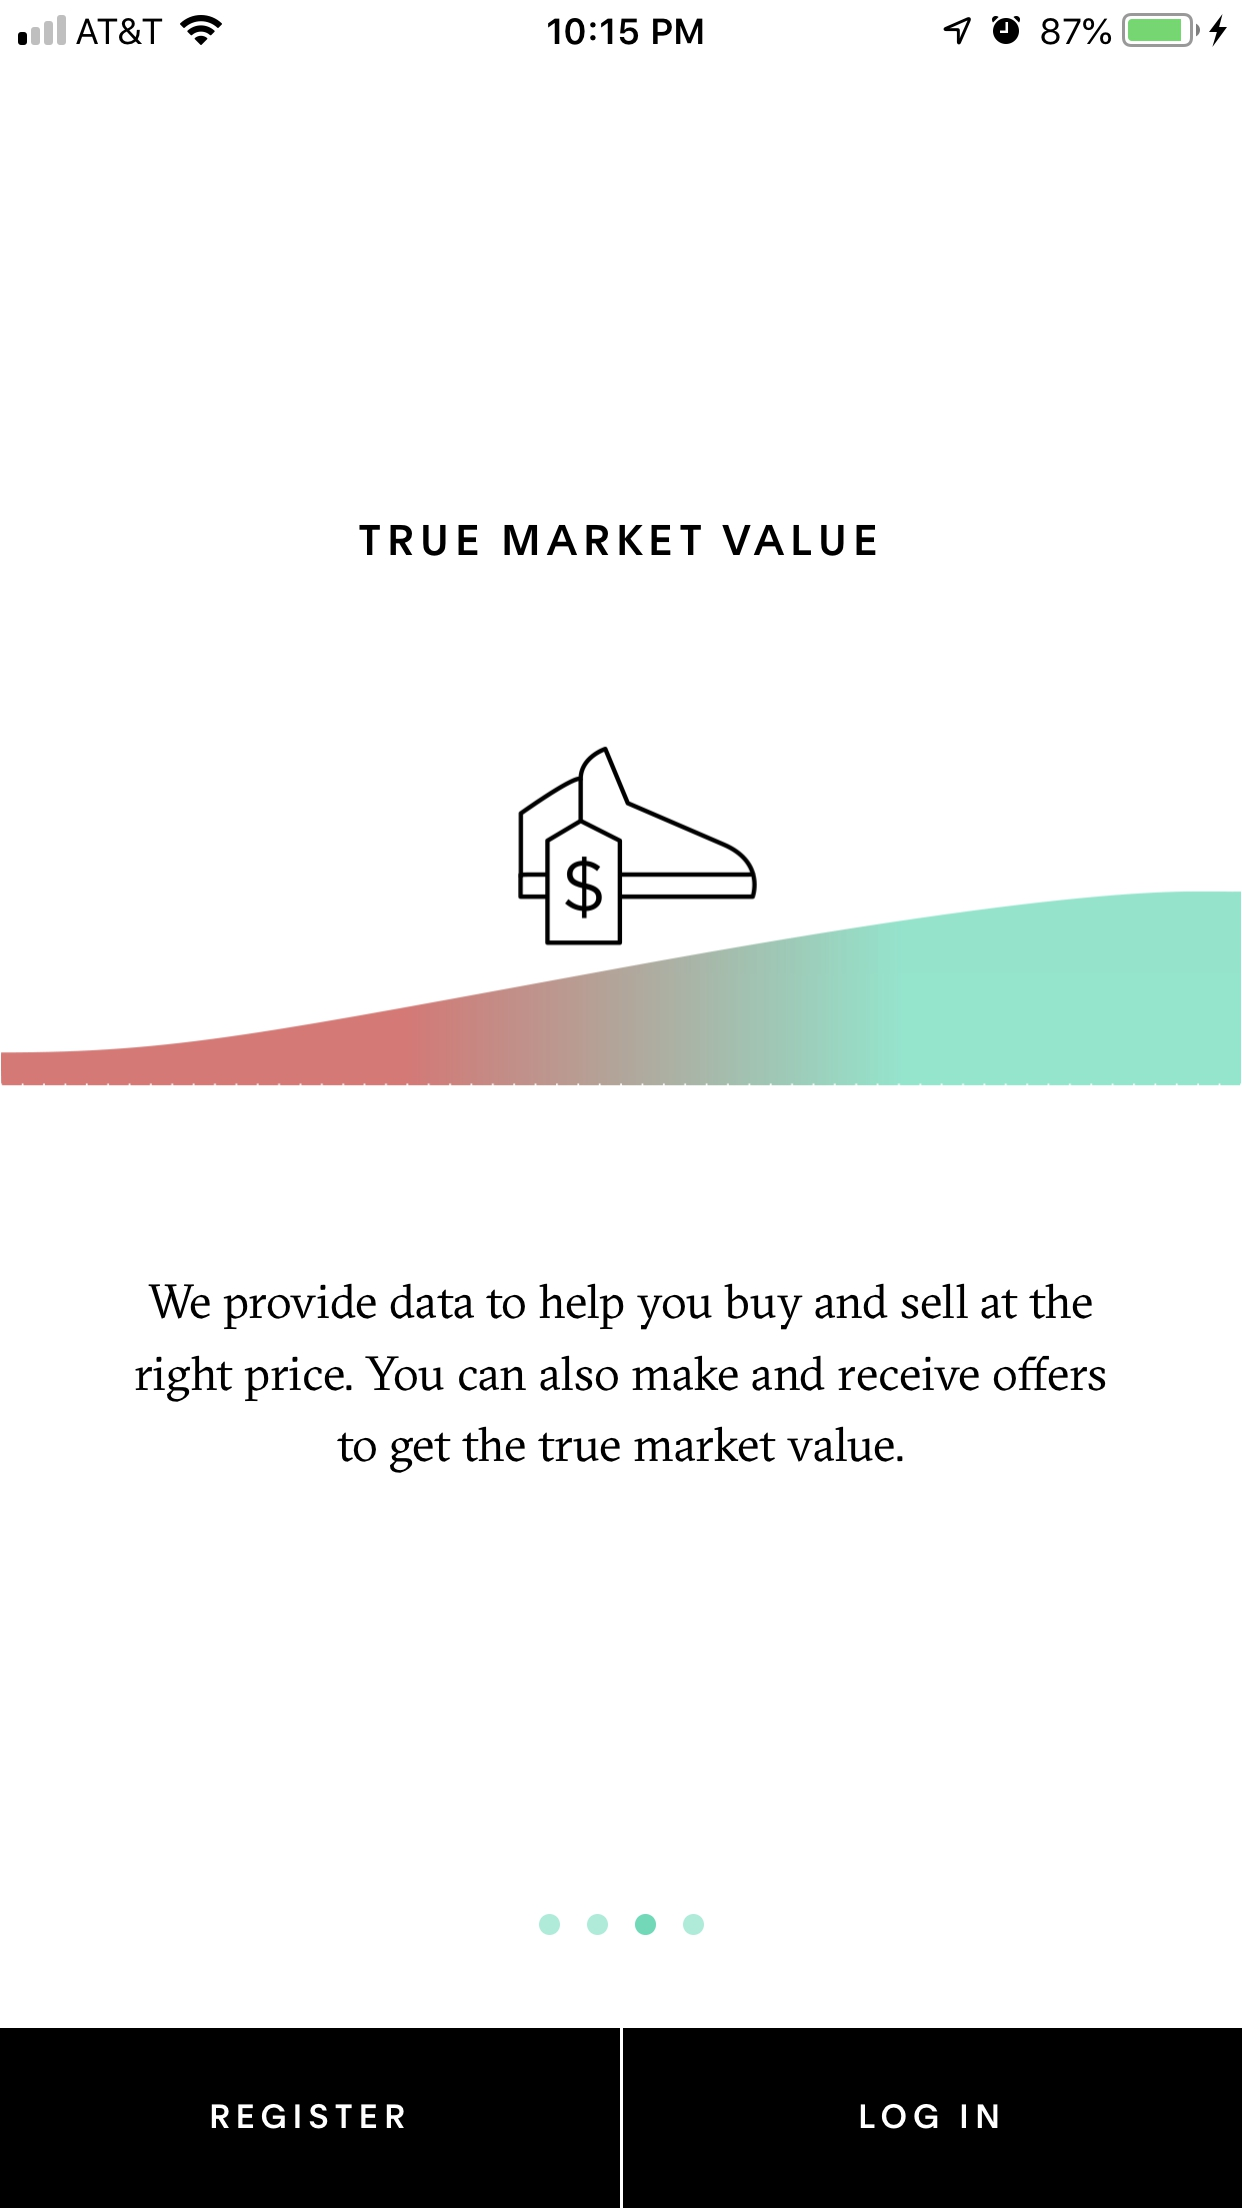Image: (519, 746, 758, 946)
PageIndicator: (538, 1912, 705, 1937)
Text: (135, 1281, 1106, 1474), (359, 525, 877, 557)
TextButton: (2, 2028, 622, 2208), (623, 2028, 1242, 2208)
UpperTaskBar: (2, 2, 1242, 49)
